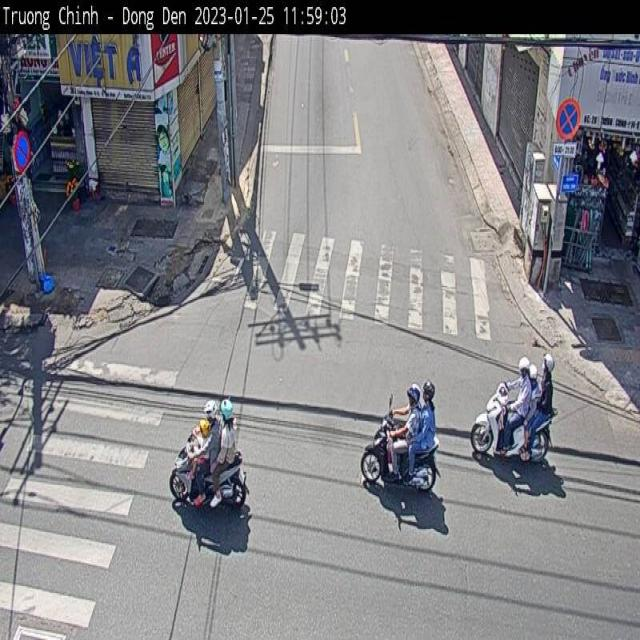with_helmet: (401, 373, 422, 412), (218, 390, 238, 428), (512, 350, 532, 380), (542, 343, 556, 379)
